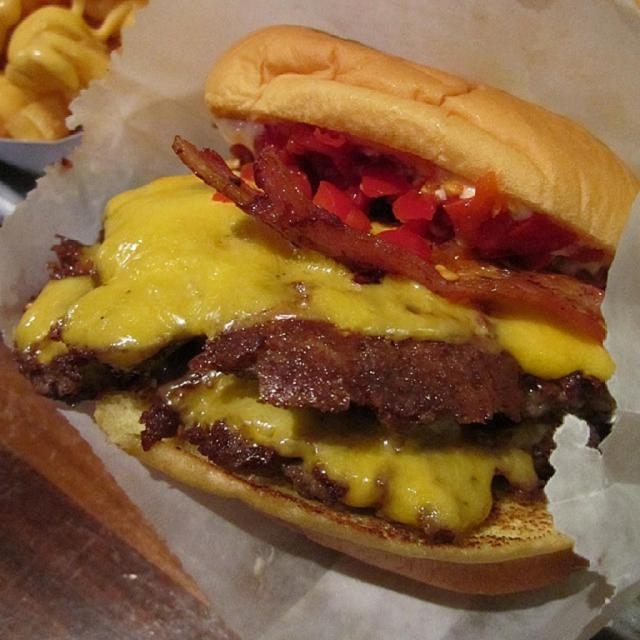Hamburger: (13, 23, 639, 594)
